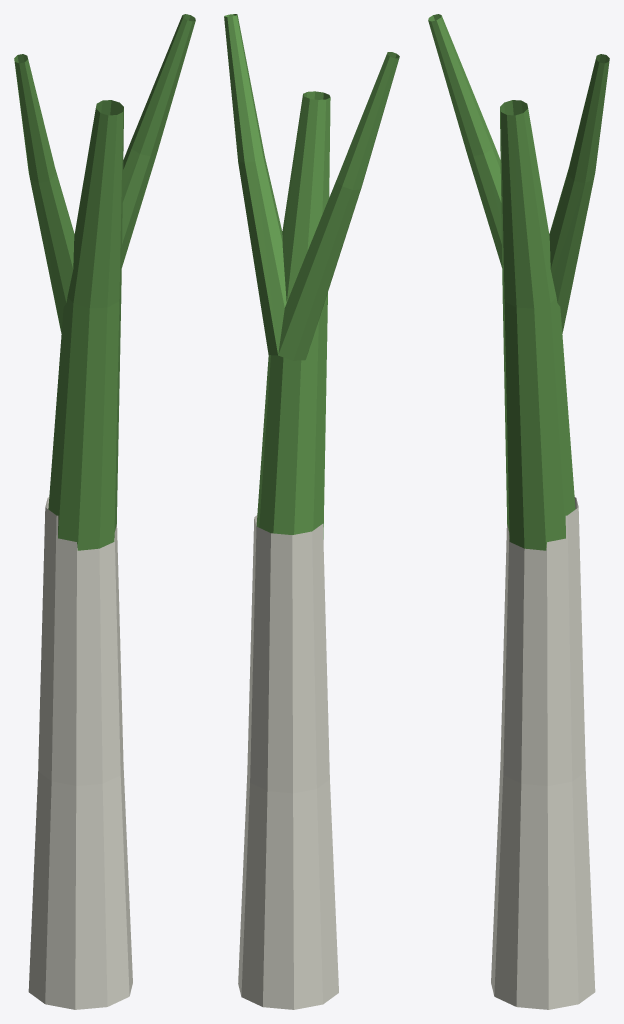
The model's file is green_onion.obj.
The picture shows the model from 3 angles, left to right: view 1: azimuth 30°, elevation 25°; view 2: azimuth 150°, elevation 25°; view 3: azimuth 330°, elevation 25°; orthographic projection. The views are drawn at different scales.
Size of the model in its own units: 0.429 by 2.2 by 0.2596.
